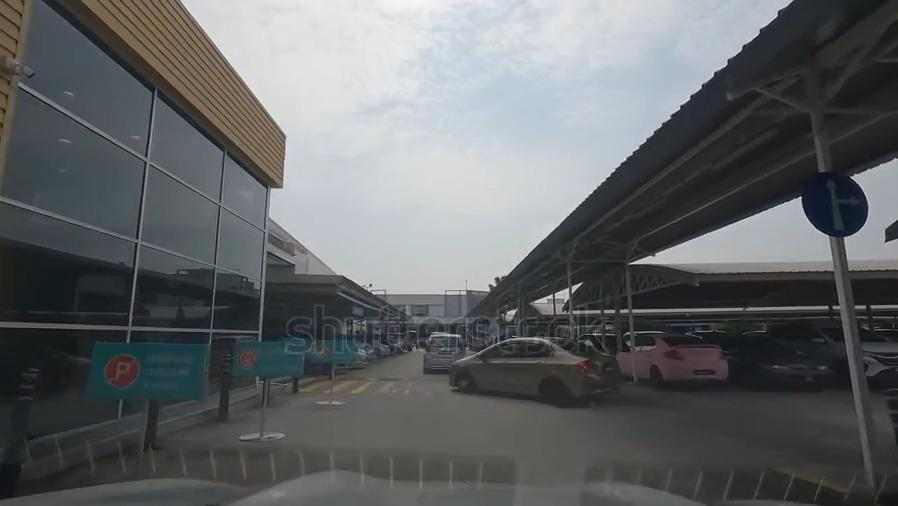car: (451, 342, 616, 400), (787, 319, 898, 382), (727, 335, 829, 389), (629, 331, 727, 386), (423, 335, 463, 370)
pedestrian: (295, 381, 475, 401)
speedbump: (334, 371, 449, 384)
wheel: (541, 379, 569, 407), (453, 371, 472, 390)
